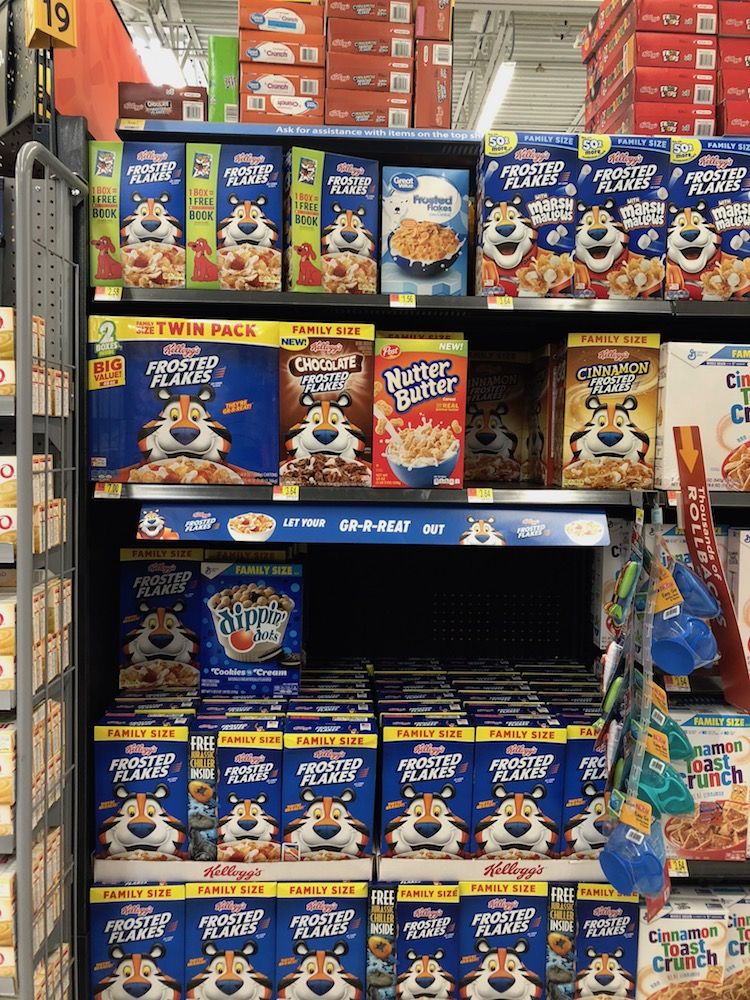Dippin Dots Cookies & Cream -568929378: (196, 551, 292, 688)
Nutter Butter-565717511: (373, 342, 466, 485)
